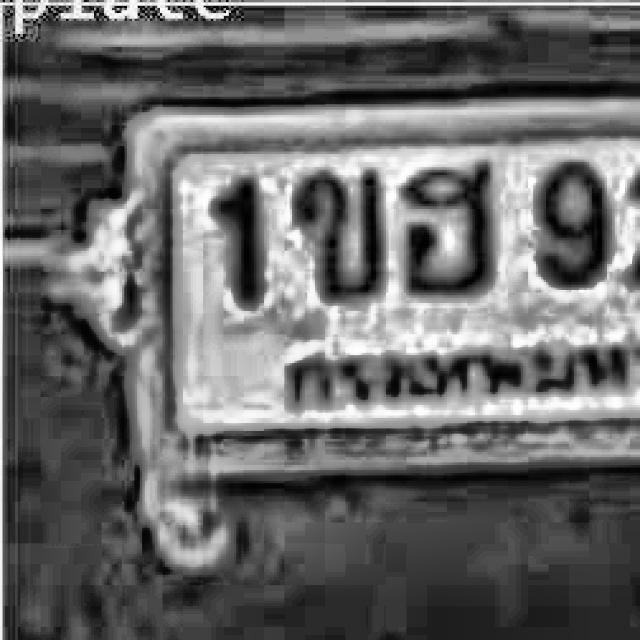license-plate: (117, 79, 640, 513)
